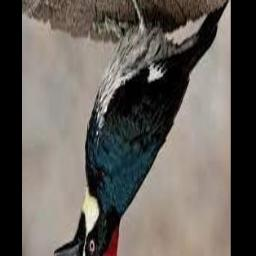Woodpecker: (53, 0, 228, 256)
